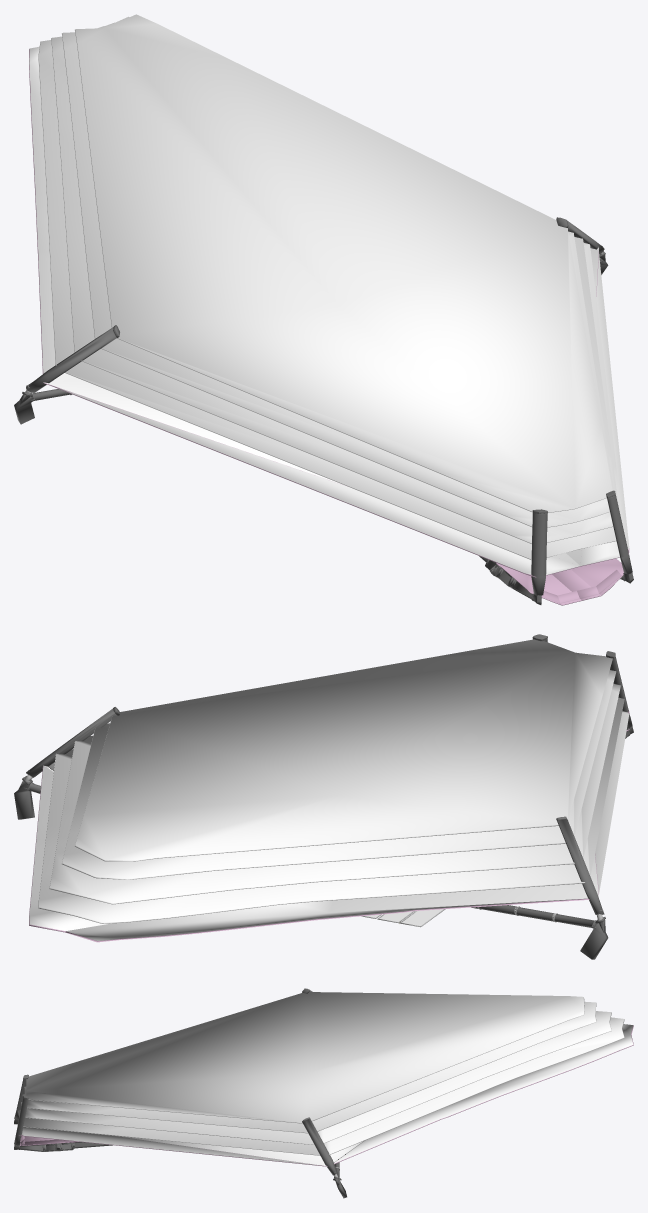
3 renders of one model, top to bottom at view 1: azimuth 30°, elevation 25°; view 2: azimuth 150°, elevation 25°; view 3: azimuth 270°, elevation 25°, orthographic. The views are drawn at different scales.
Visible parts, largest first — view 1: Sunscreens; view 2: Sunscreens; view 3: Sunscreens.
Part boxes in pixels (x1,y1,x2,y2): Sunscreens: (14,14,633,605); Sunscreens: (14,634,633,959); Sunscreens: (14,988,633,1198).
Size of the model in its own units: 12.87 by 4.8 by 19.69.
